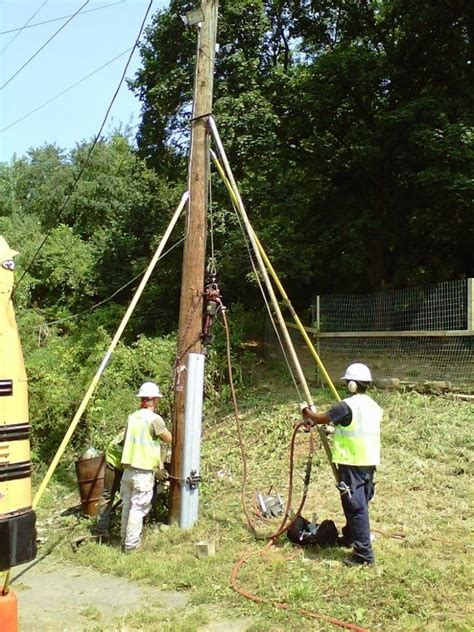pole: (168, 1, 251, 524)
